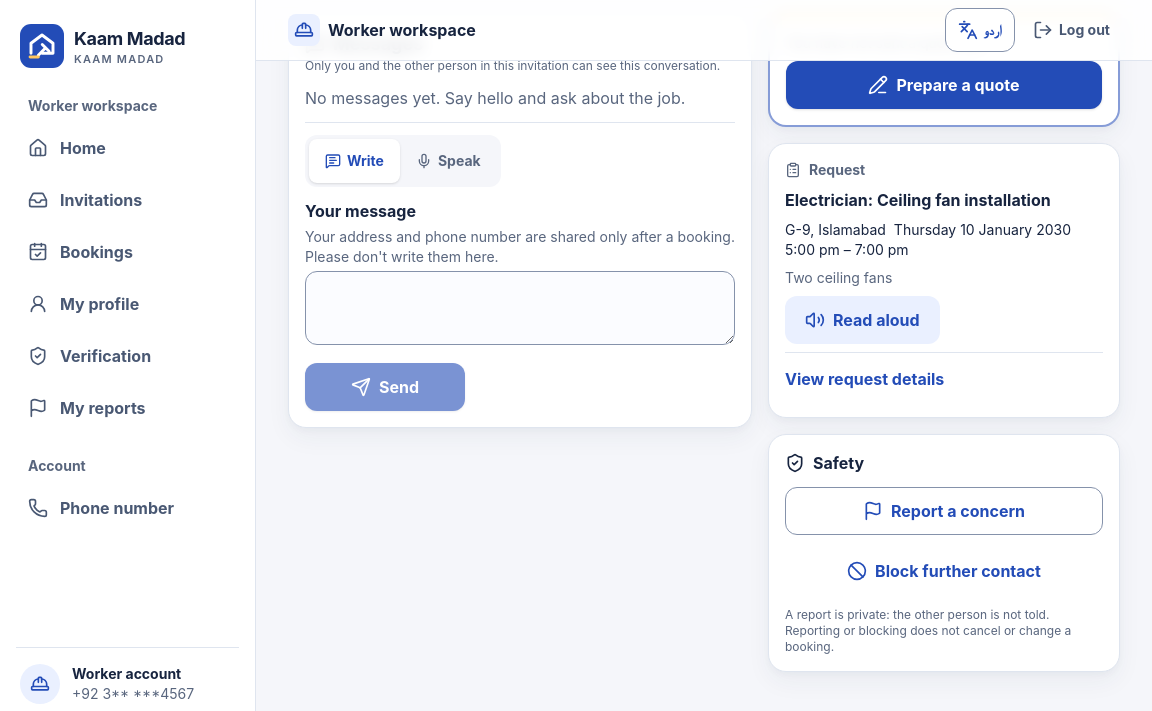
it: reporting a concern › files a private report from the conversation without choosing who is reported
(page scrolled)
Click the link "Report a concern" at (944,511), box [785,487,1103,535]
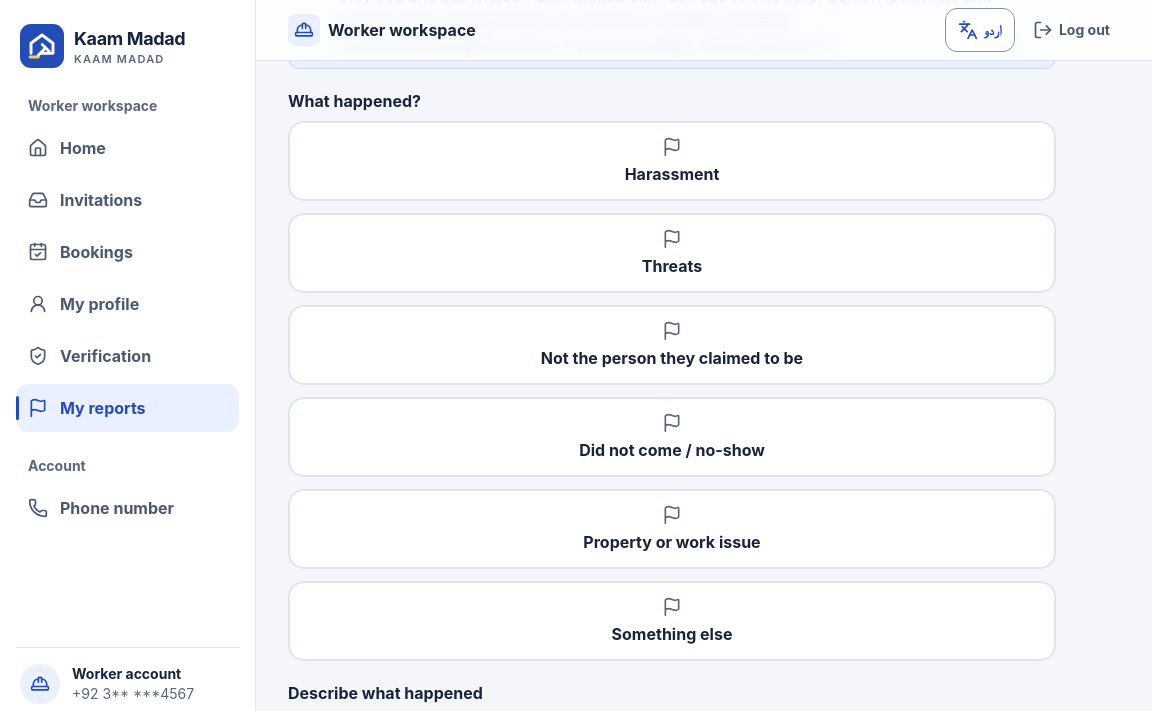
Click the radio button labelled "Harassment" at (672,161), box [288,121,1056,201]
(page scrolled)
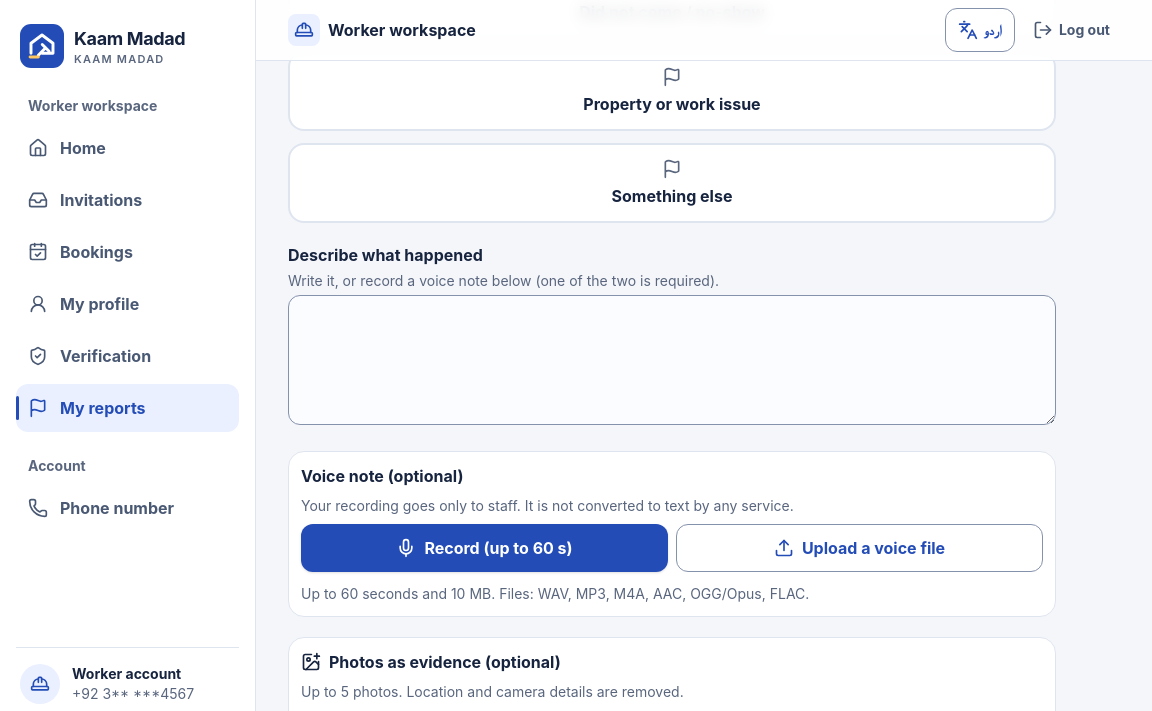
Type "Abusive messages" into the text box labelled "Describe what happened" at (672,360), box [288,295,1056,425]
(page scrolled)
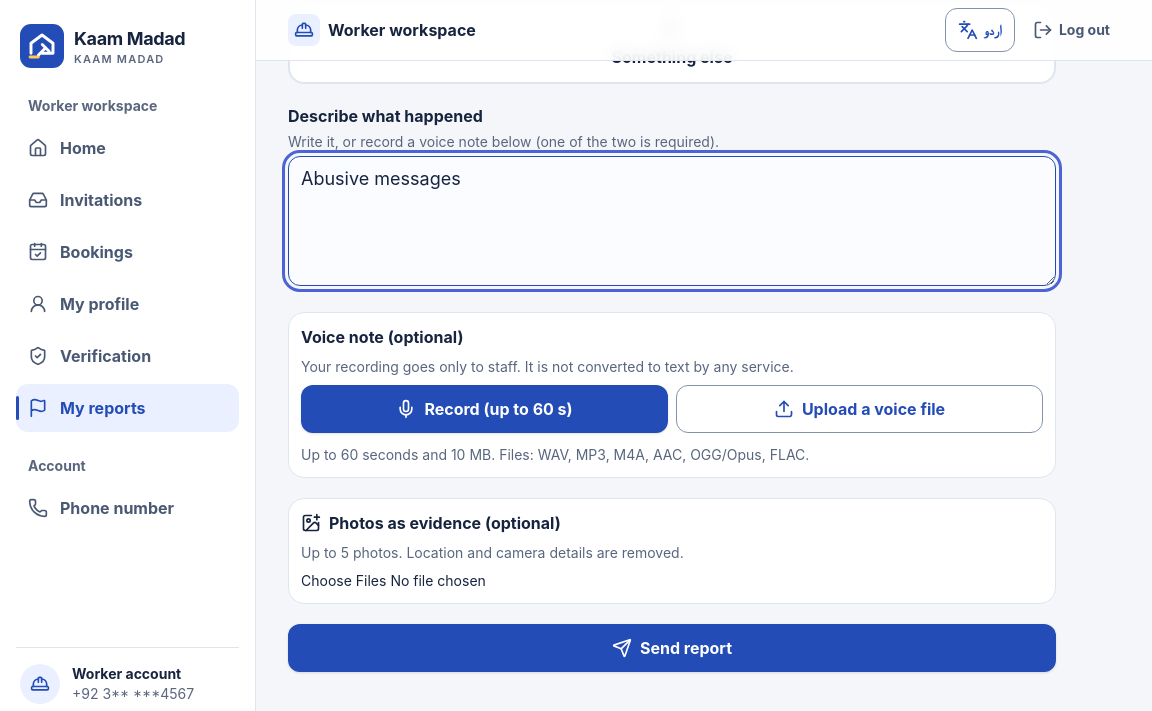
Click the button "Send report" at (672,648), box [288,624,1056,672]
(page scrolled)
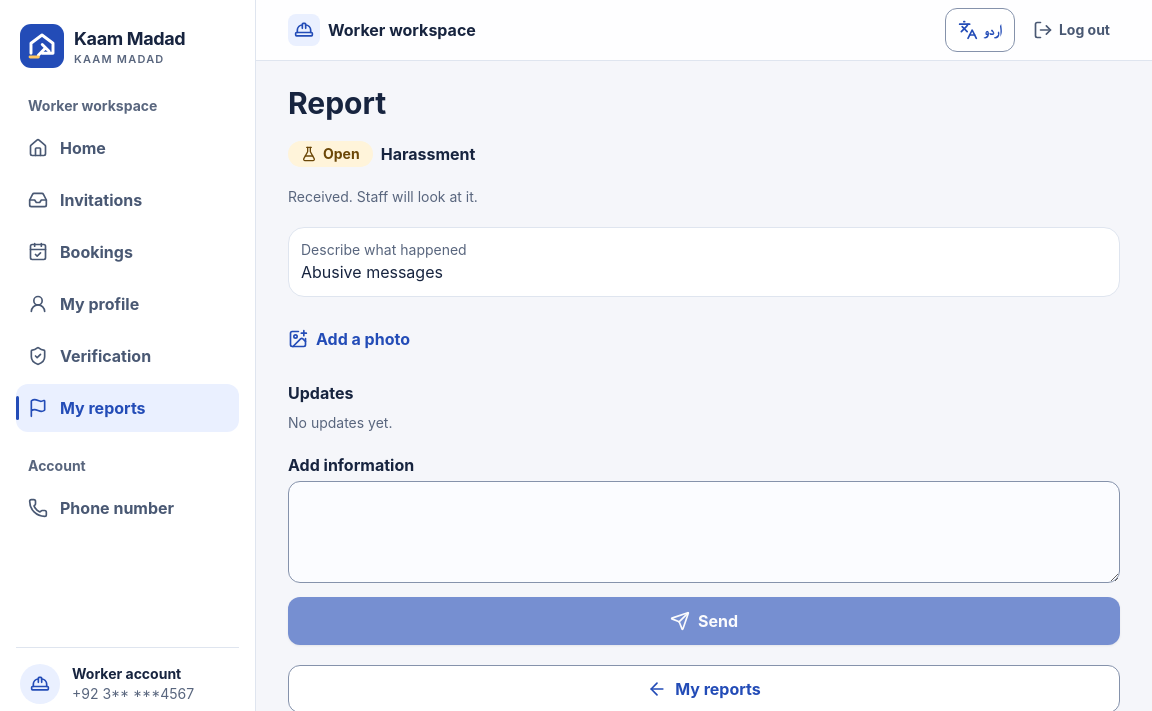
expect the text "Received. Staff will look at it." is shown: met, box [288,188,478,205]
